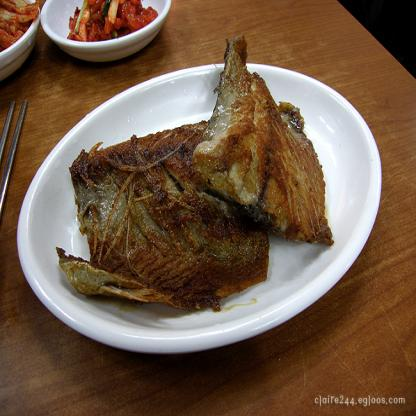Peixe: (58, 57, 339, 334)
